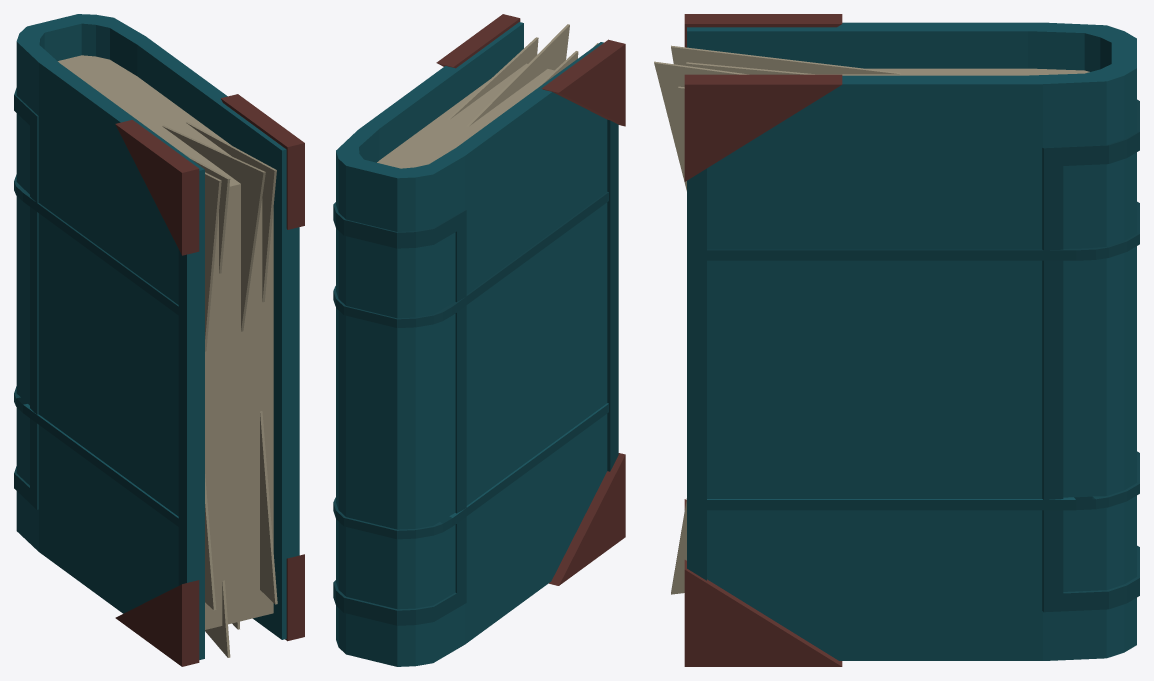
Rendered from book4_closed.glb.
The picture shows the model from 3 angles, left to right: view 1: azimuth 30°, elevation 25°; view 2: azimuth 150°, elevation 25°; view 3: azimuth 270°, elevation 25°; orthographic projection. The views are drawn at different scales.
Parts seen in each view (by area): view 1: Book4_Closed; view 2: Book4_Closed; view 3: Book4_Closed.
Boxes of the visible parts, <box> form: Book4_Closed: <box>14,14,304,666</box>; Book4_Closed: <box>333,14,625,666</box>; Book4_Closed: <box>654,14,1139,666</box>.
Bounding box in the file's own units: 0.2074 × 0.8068 × 0.6028.
